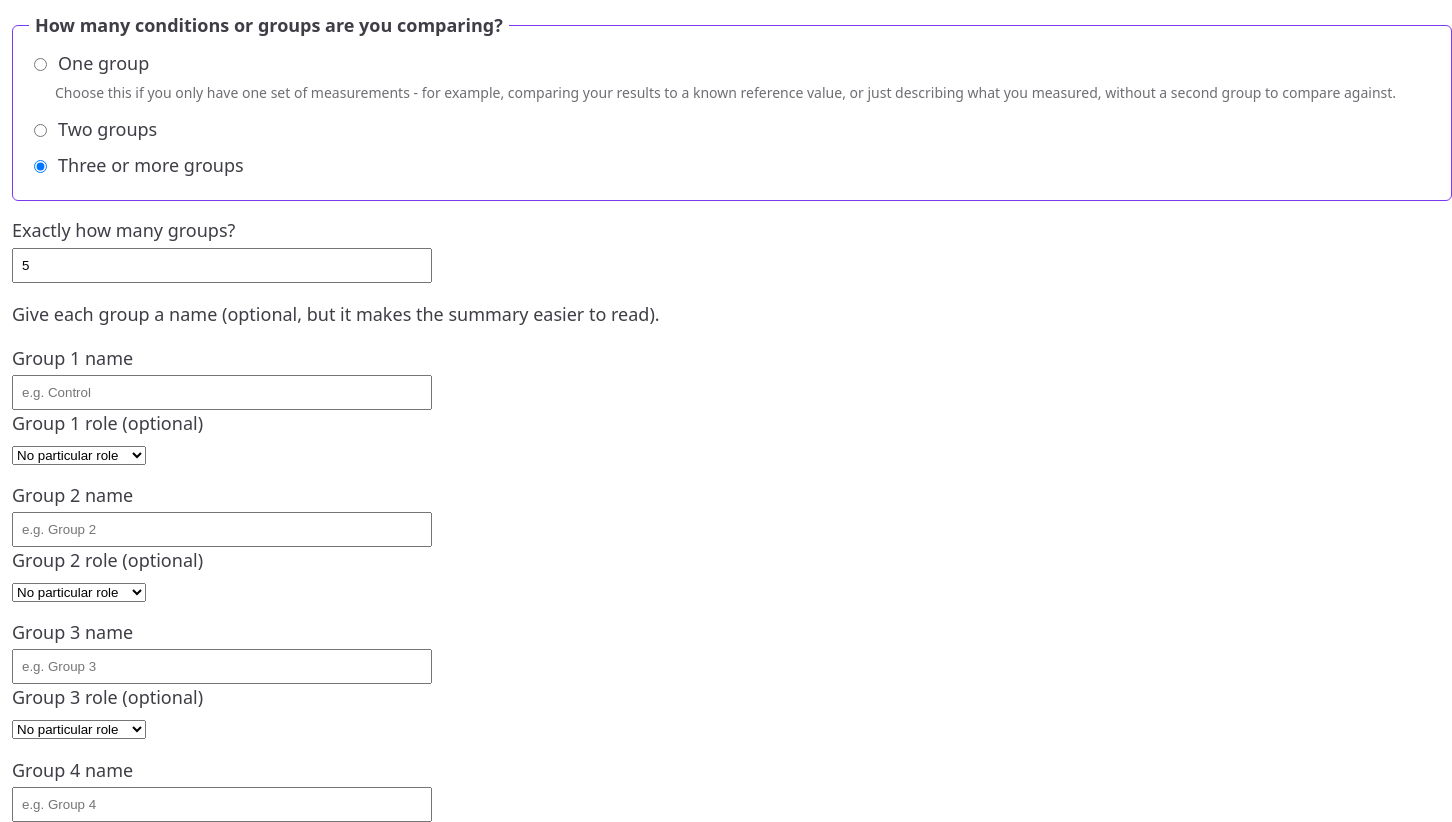
it: GroupsStep › the group-count number field (bug repro: could not edit past the default) › reverts to the last committed count on blur if left empty or invalid
Clear the number field labelled "Exactly how many groups?" at x=222, y=265, box [12, 248, 432, 283]
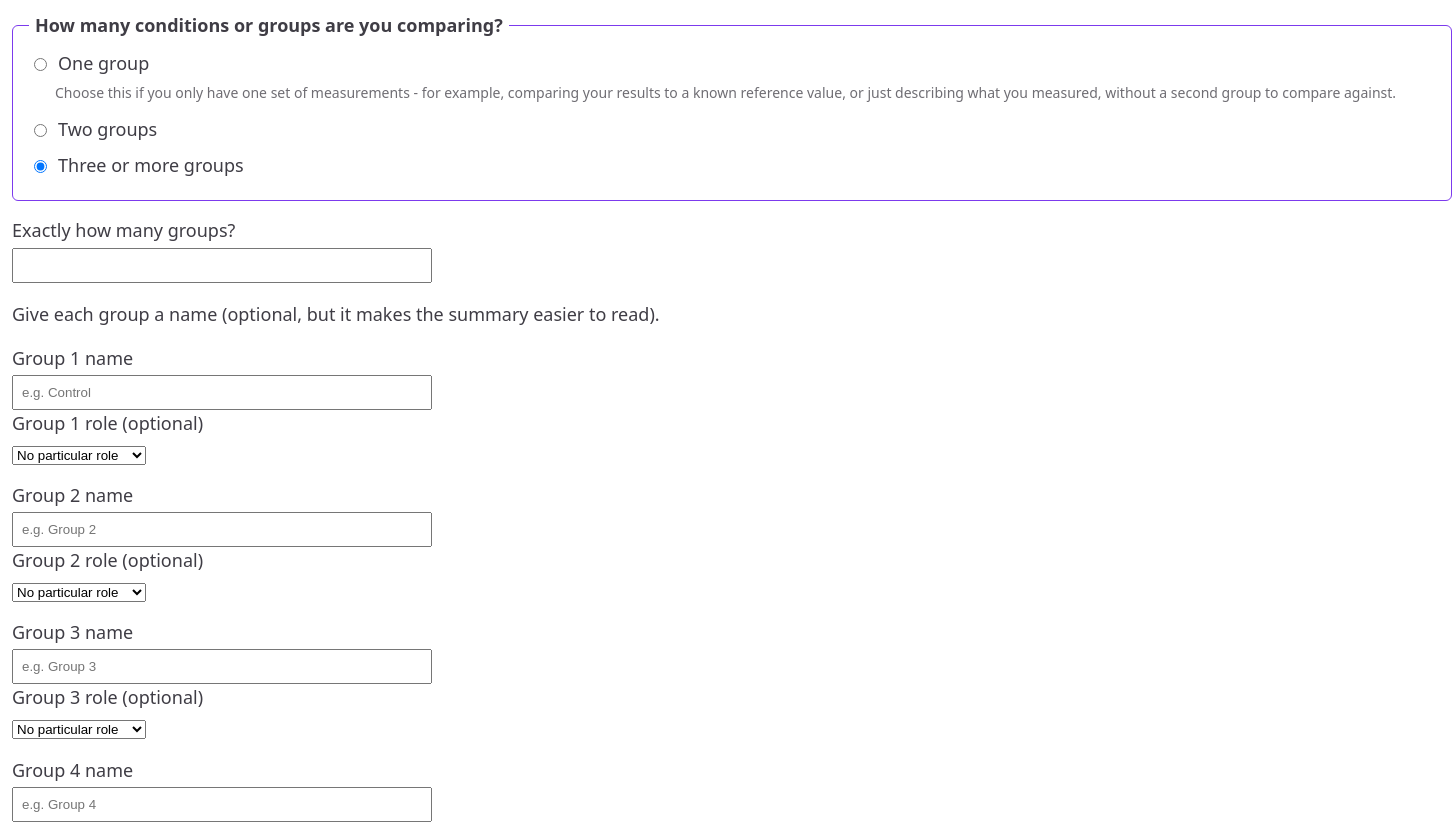
Leave the number field labelled "Exactly how many groups?", box [12, 248, 432, 283]
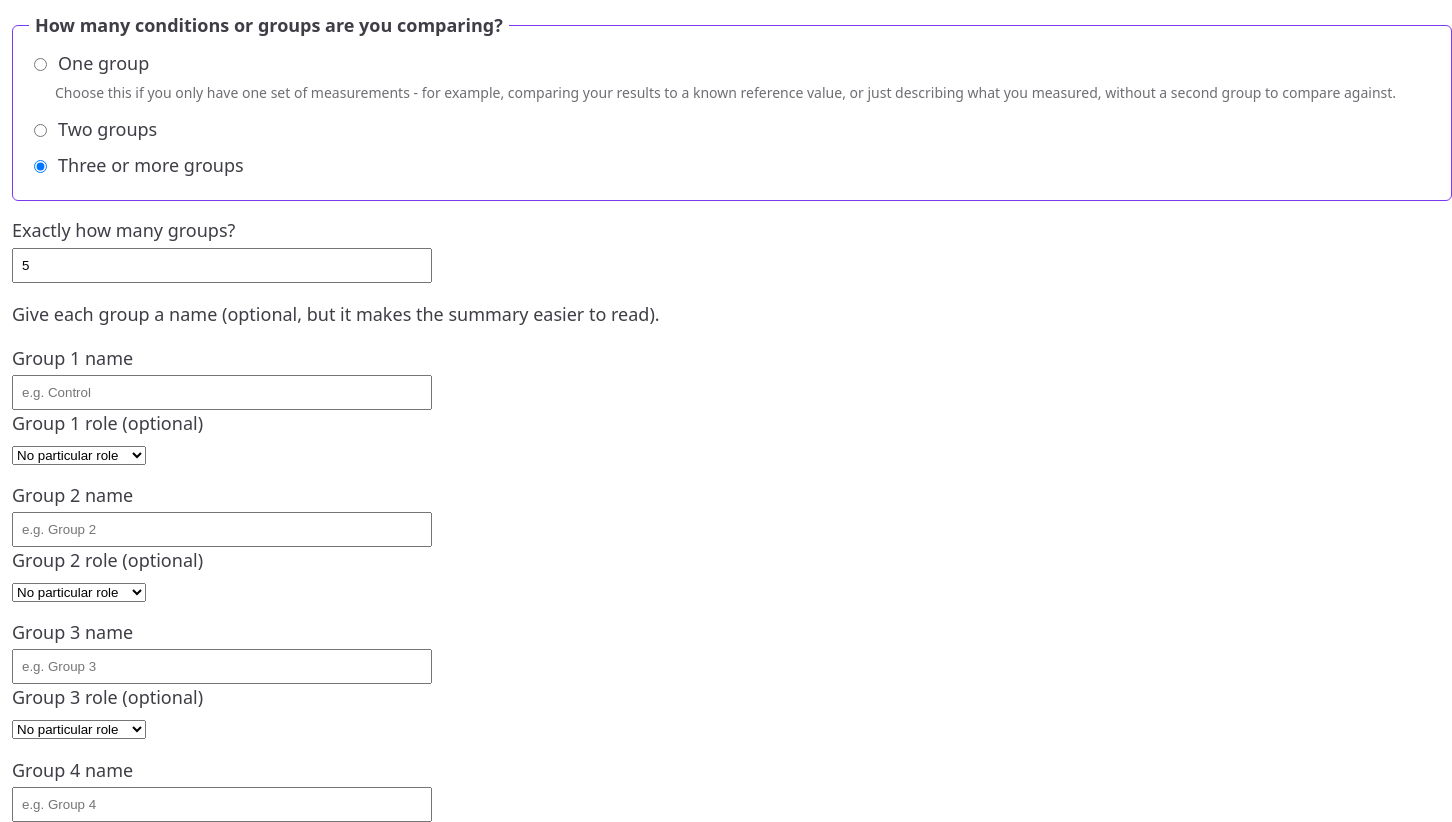
expect the number field labelled "Exactly how many groups?" holds "5": met, box [12, 248, 432, 283]
